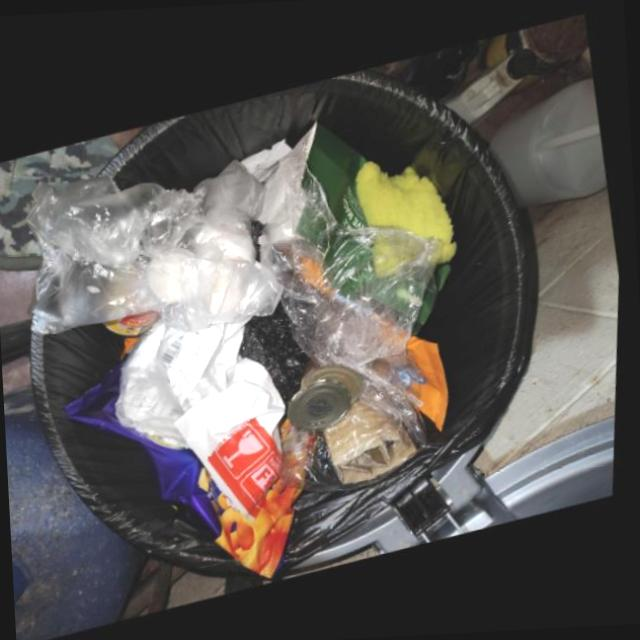bao_bi_thuc_pham: (70, 357, 311, 576), (397, 334, 456, 430)
nhom: (294, 376, 358, 431), (307, 363, 372, 402)
tui_ni_long: (29, 157, 288, 330)
